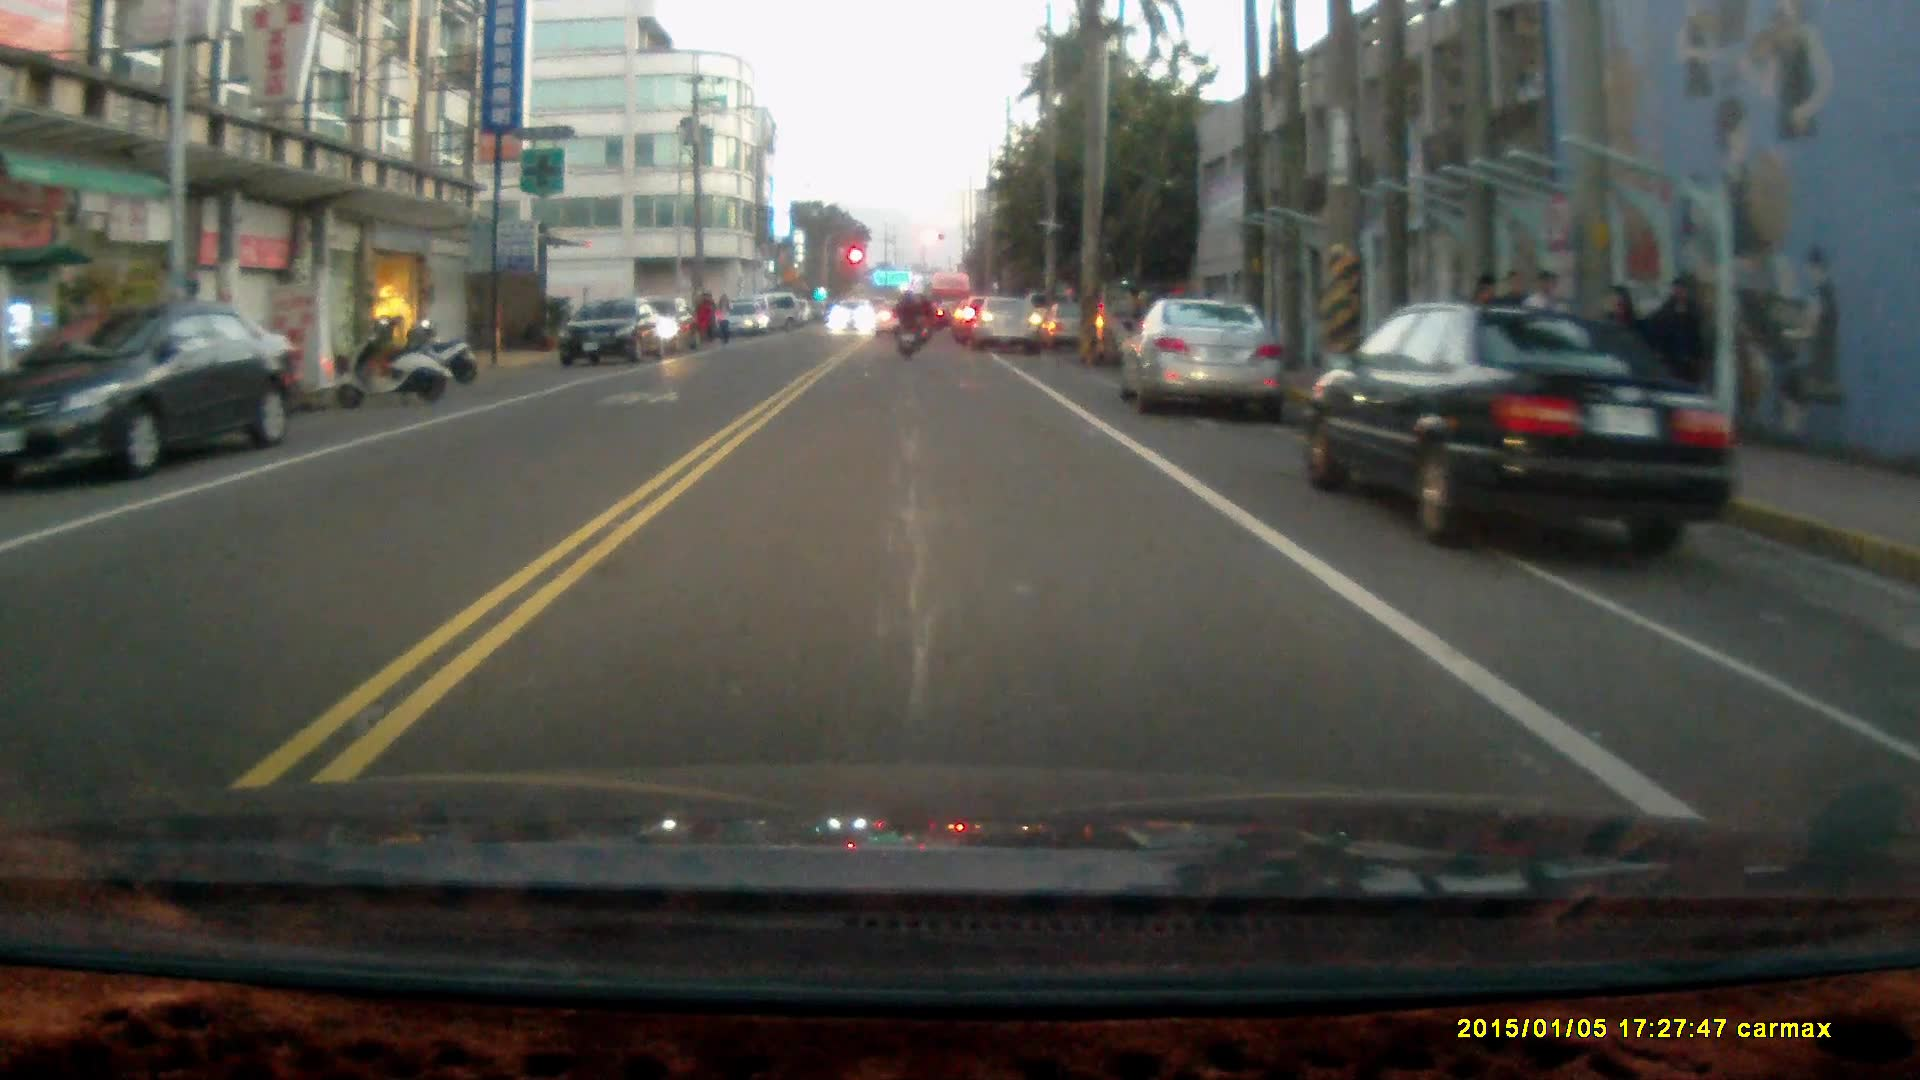pedestrian: (1651, 271, 1712, 421), (695, 290, 717, 349), (713, 290, 733, 349)
rider: (890, 284, 923, 360)
vehicle: (1294, 298, 1746, 560), (3, 304, 290, 479), (1121, 295, 1285, 415), (558, 301, 675, 372), (973, 295, 1044, 350)
